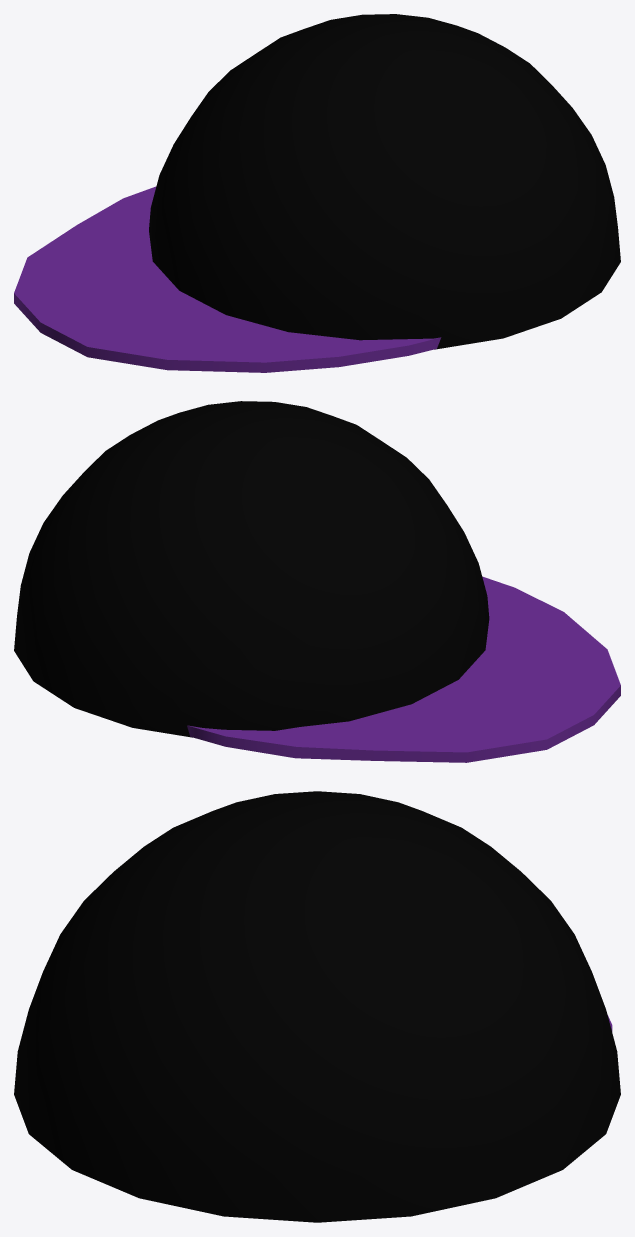
File: cap_purple.obj
The picture shows the model from 3 angles, top to bottom: view 1: azimuth 30°, elevation 25°; view 2: azimuth 150°, elevation 25°; view 3: azimuth 270°, elevation 25°; orthographic projection. The views are drawn at different scales.
Parts seen in each view (by area): view 1: pSphere11; view 2: pSphere11; view 3: pSphere11.
Boxes of the visible parts, box(x1,y1,x2,y2) form: pSphere11: box(14, 14, 620, 372); pSphere11: box(14, 401, 620, 762); pSphere11: box(14, 791, 620, 1222).
Bounding box in the file's own units: 2.75 × 1.03 × 2.06.
